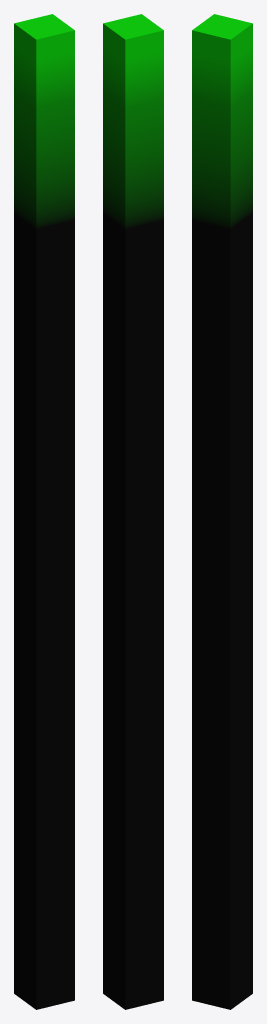
File: SpectrogramCube.fbx
3 renders of one model, left to right at view 1: azimuth 30°, elevation 25°; view 2: azimuth 210°, elevation 25°; view 3: azimuth 330°, elevation 25°, orthographic.
Parts seen in each view (by area): view 1: SpectrogramCube; view 2: SpectrogramCube; view 3: SpectrogramCube.
Part boxes in pixels (box(x1,y1,x2,y2)): SpectrogramCube: box(14, 14, 74, 1009); SpectrogramCube: box(103, 14, 163, 1009); SpectrogramCube: box(192, 14, 252, 1009).
Bounding box in the file's own units: 1.25 × 30 × 1.25.
